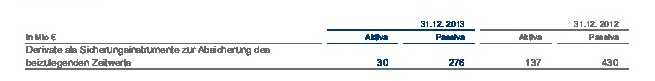table: (0, 0, 655, 81)
